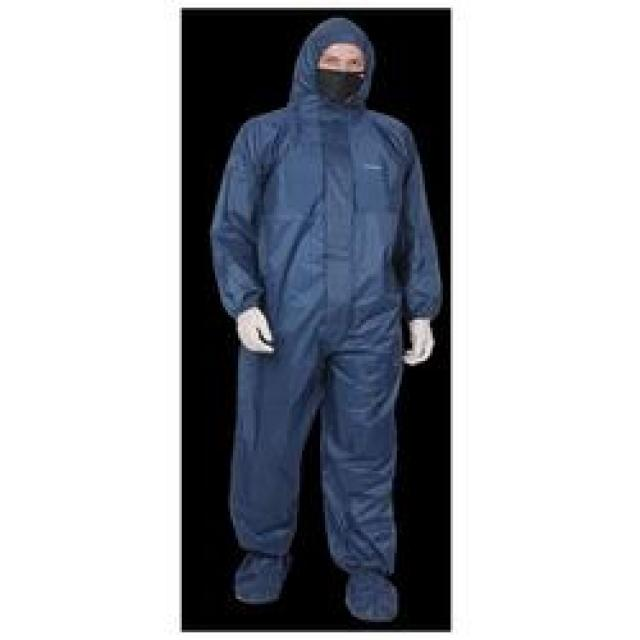Coverall: (205, 15, 451, 622)
Gloves: (233, 302, 276, 356), (399, 313, 438, 372)
Mask: (310, 62, 366, 103)
